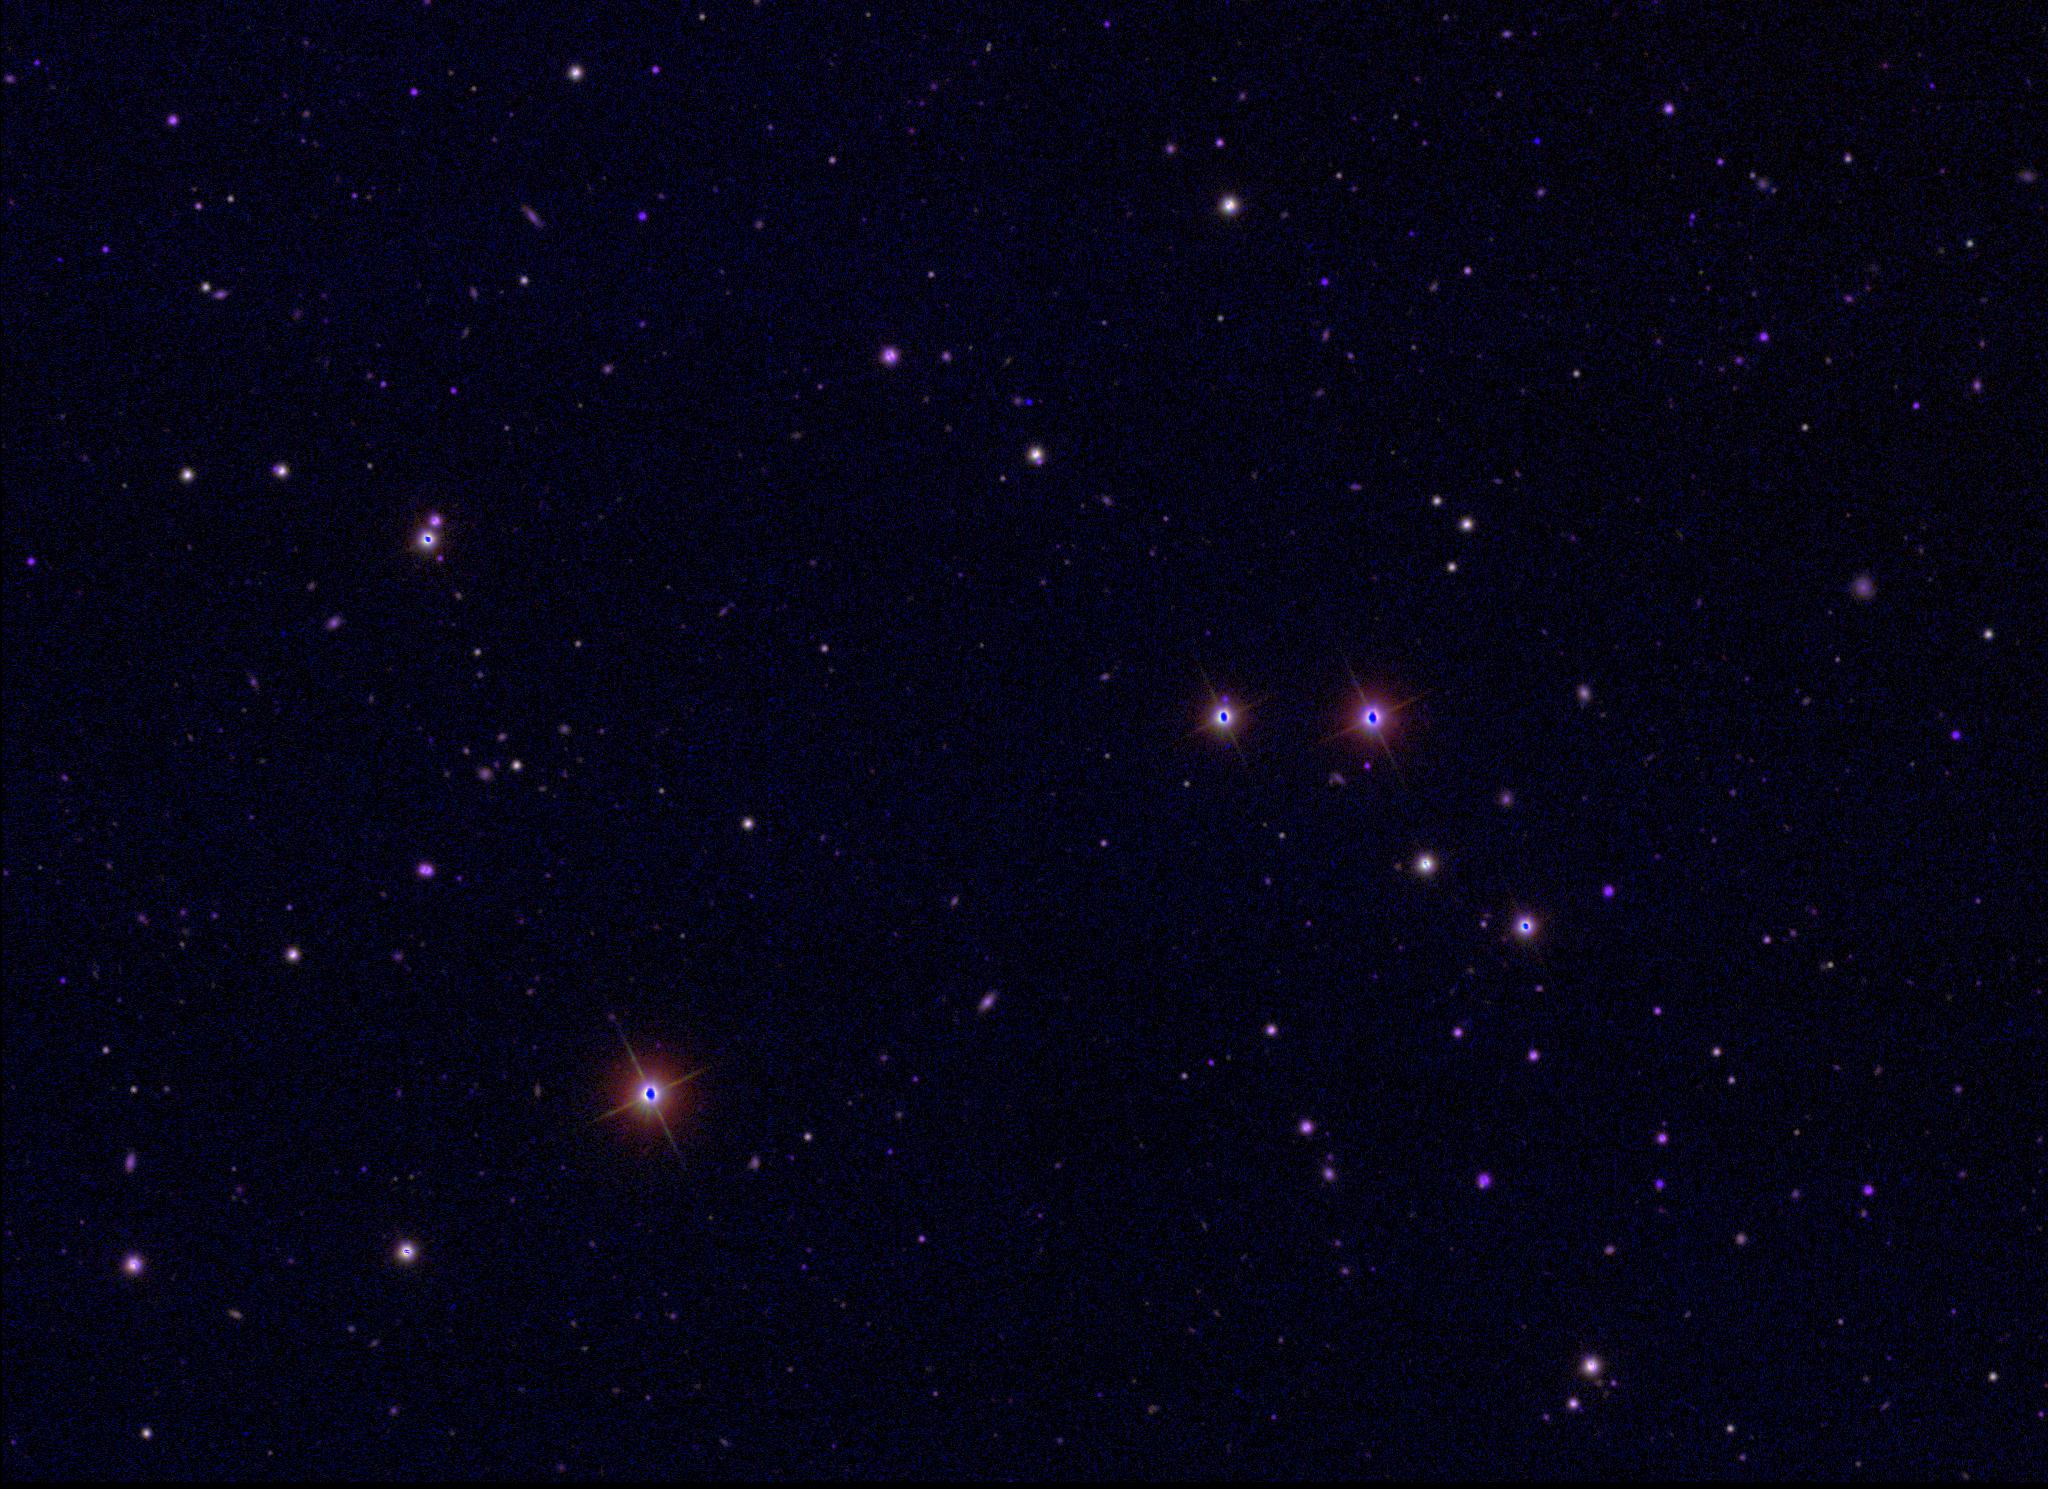L: (1026, 393, 1038, 407), (1533, 134, 1547, 146)
